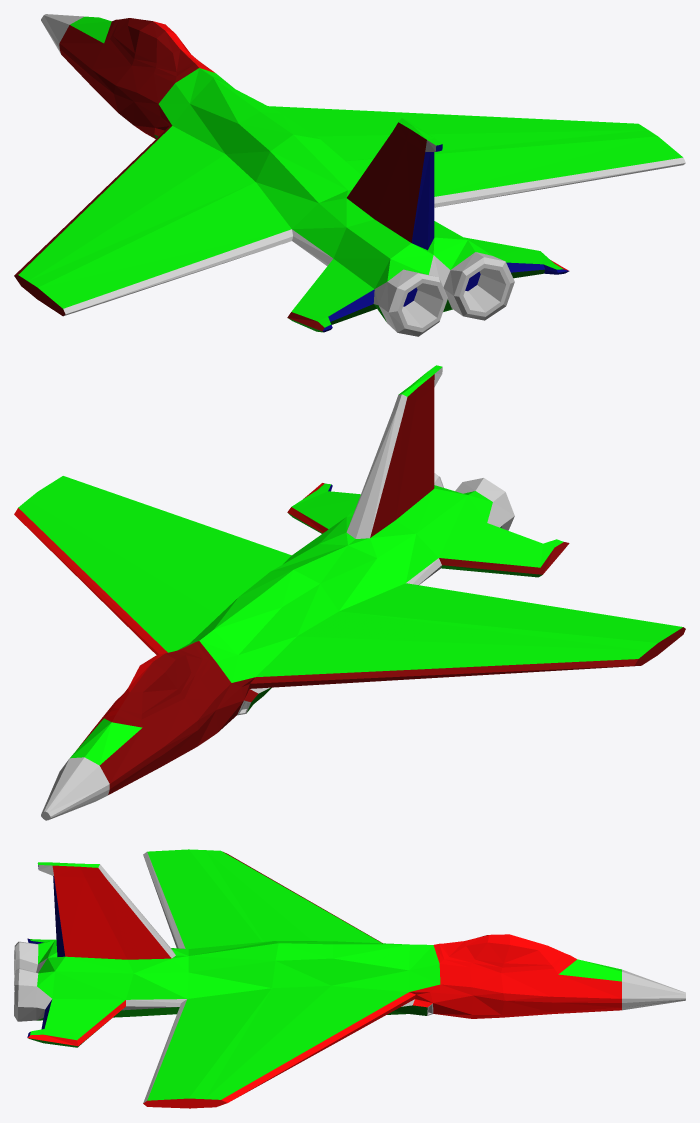
The model's file is jet.obj.
The picture shows the model from 3 angles, top to bottom: view 1: azimuth 30°, elevation 25°; view 2: azimuth 150°, elevation 25°; view 3: azimuth 270°, elevation 25°; orthographic projection. The views are drawn at different scales.
Visible parts, largest first — view 1: Jet; view 2: Jet; view 3: Jet.
Part boxes in pixels (x1,y1,x2,y2): Jet: [14, 14, 685, 336]; Jet: [14, 365, 685, 820]; Jet: [14, 849, 685, 1108].
Size of the model in its own units: 12.12 by 3.37 by 13.82.
